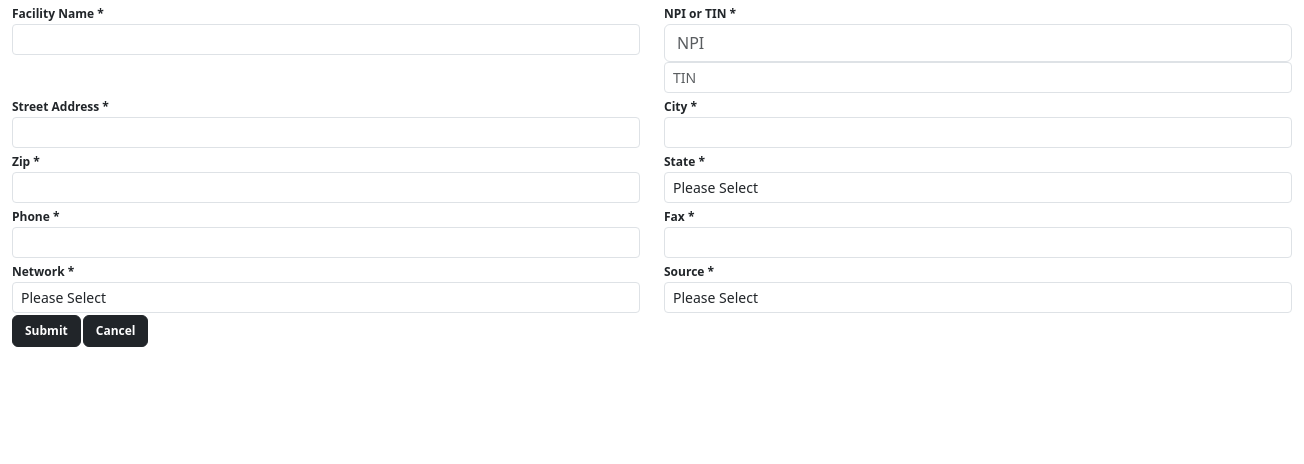
Scenario: QuickCreateProviderForm Component › validates required fields on submit
The image size is (1304, 464).
Click the button "Submit": coordinates (46, 331) [12,315,81,347]
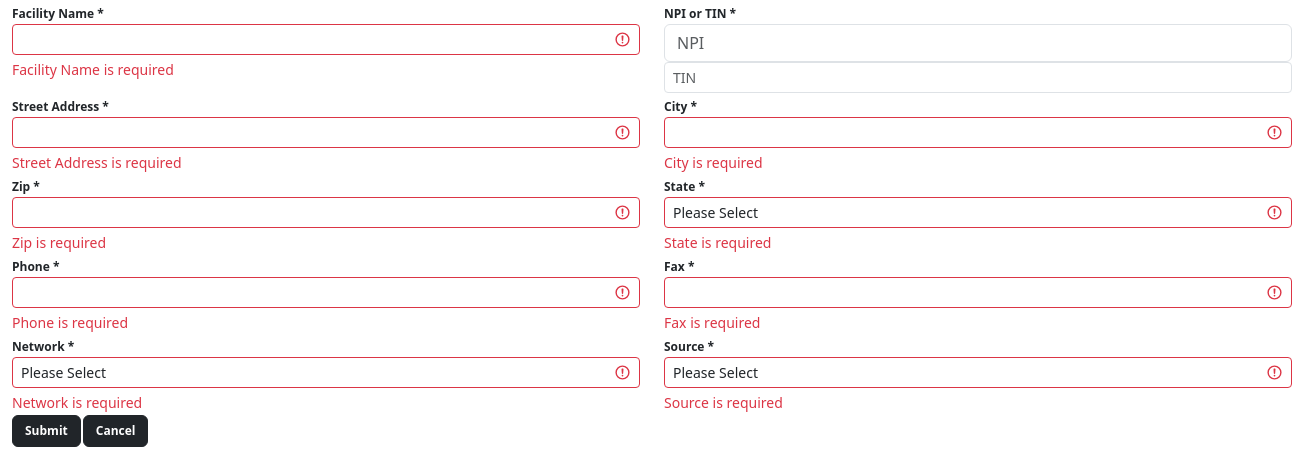
Now the text "Facility Name is required" is shown, box [12,60,174,79]
Now the text "Street Address is required" is shown, box [12,153,182,172]
Now the text "City is required" is shown, box [664,153,762,172]
